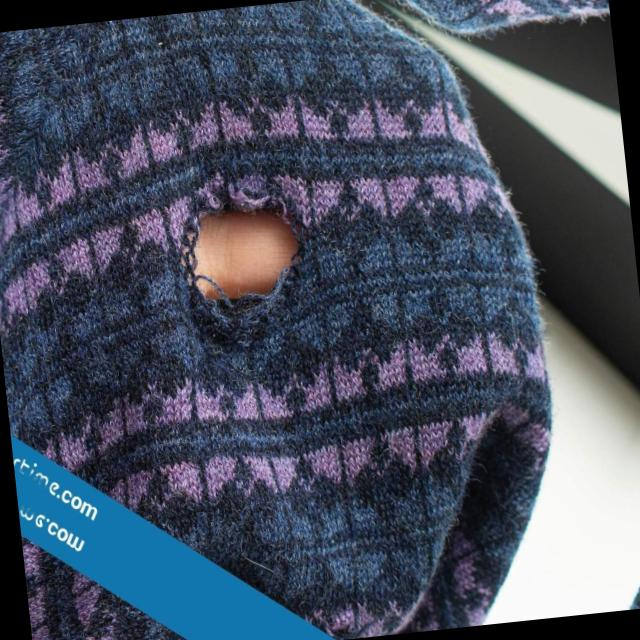cut: (177, 167, 319, 330)
